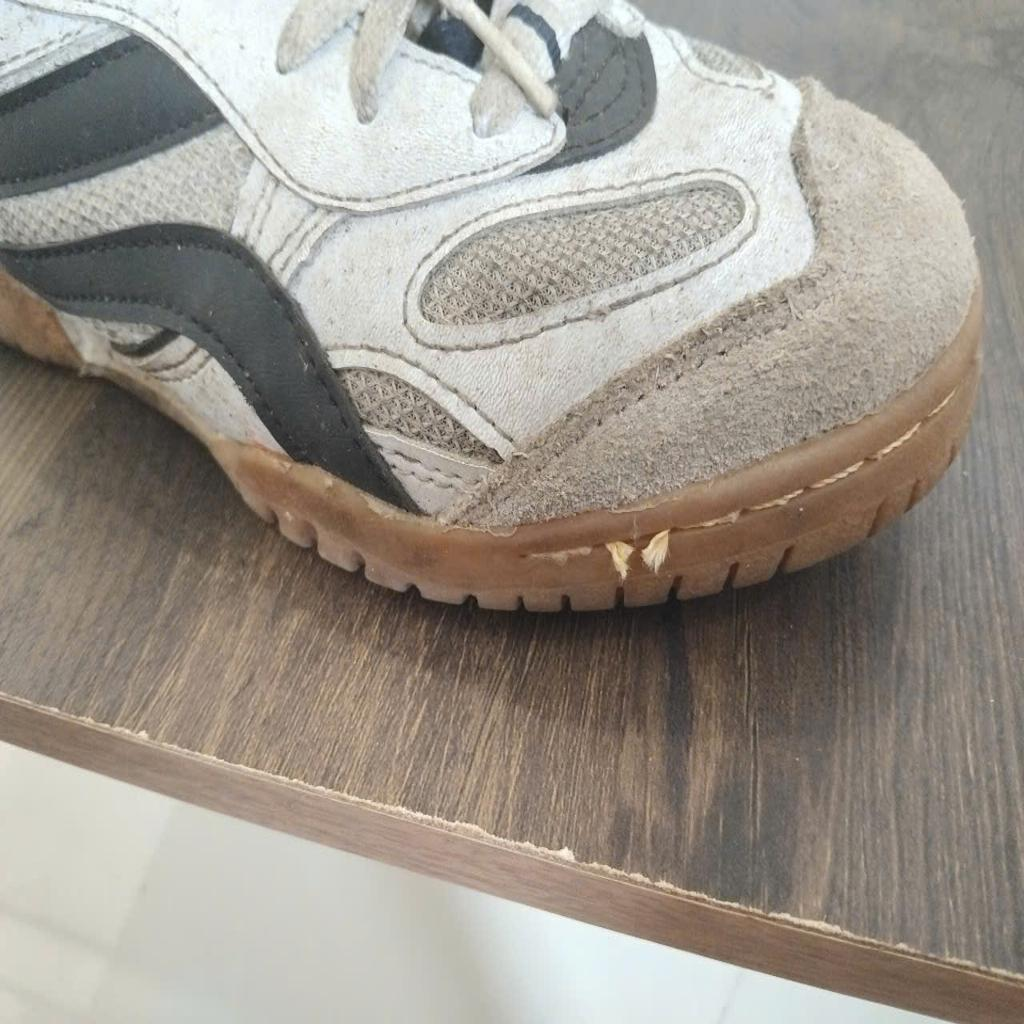broken: (599, 525, 681, 582)
